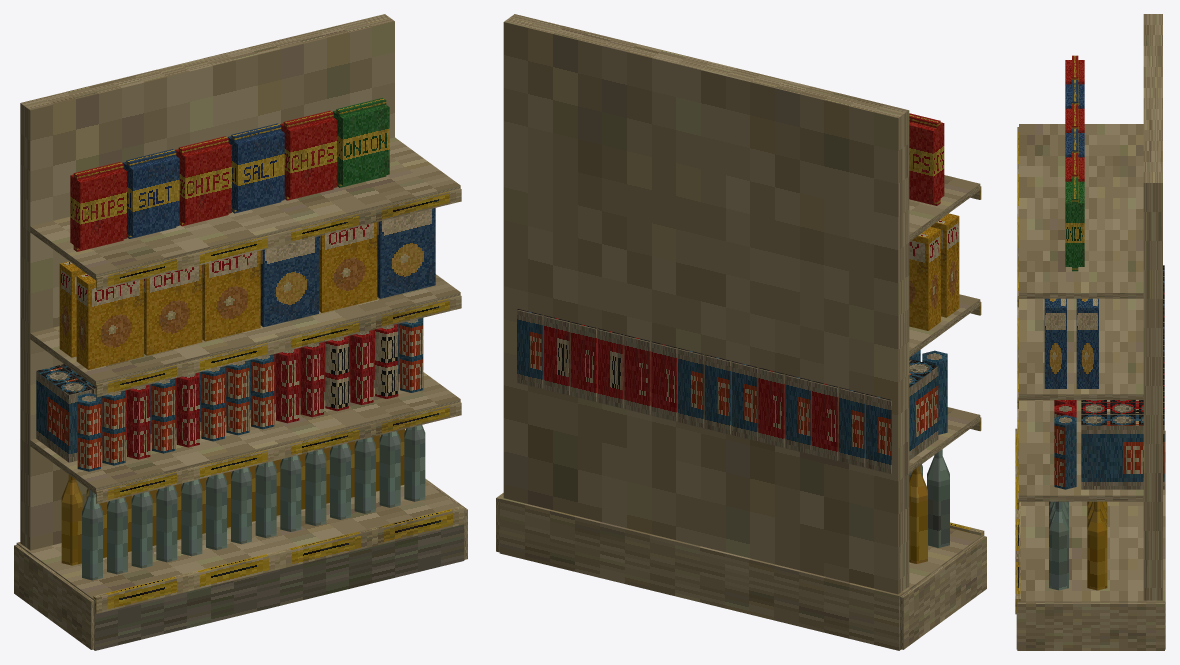
File: StoreShelf_Horror.fbx
3 views of the same model, side by side, from view 1: azimuth 30°, elevation 25°; view 2: azimuth 150°, elevation 25°; view 3: azimuth 270°, elevation 25° (orthographic). The views are drawn at different scales.
Visible parts, largest first — view 1: StoreShelf.001; view 2: StoreShelf.001; view 3: StoreShelf.001.
Boxes of the visible parts, box(x1,y1,x2,y2) form: StoreShelf.001: box(14, 14, 467, 650); StoreShelf.001: box(496, 14, 986, 650); StoreShelf.001: box(1015, 14, 1165, 650).
Size of the model in its own units: 129 by 161 by 46.95.
